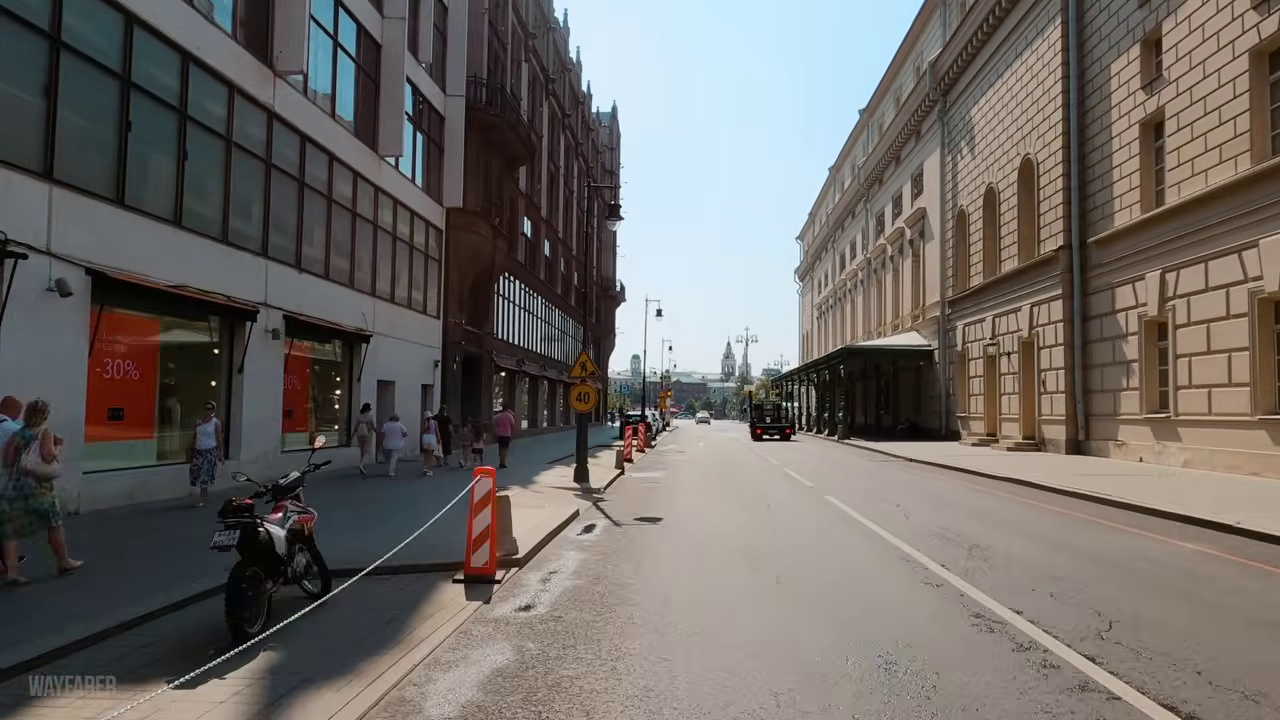apagada: (602, 199, 627, 237)
